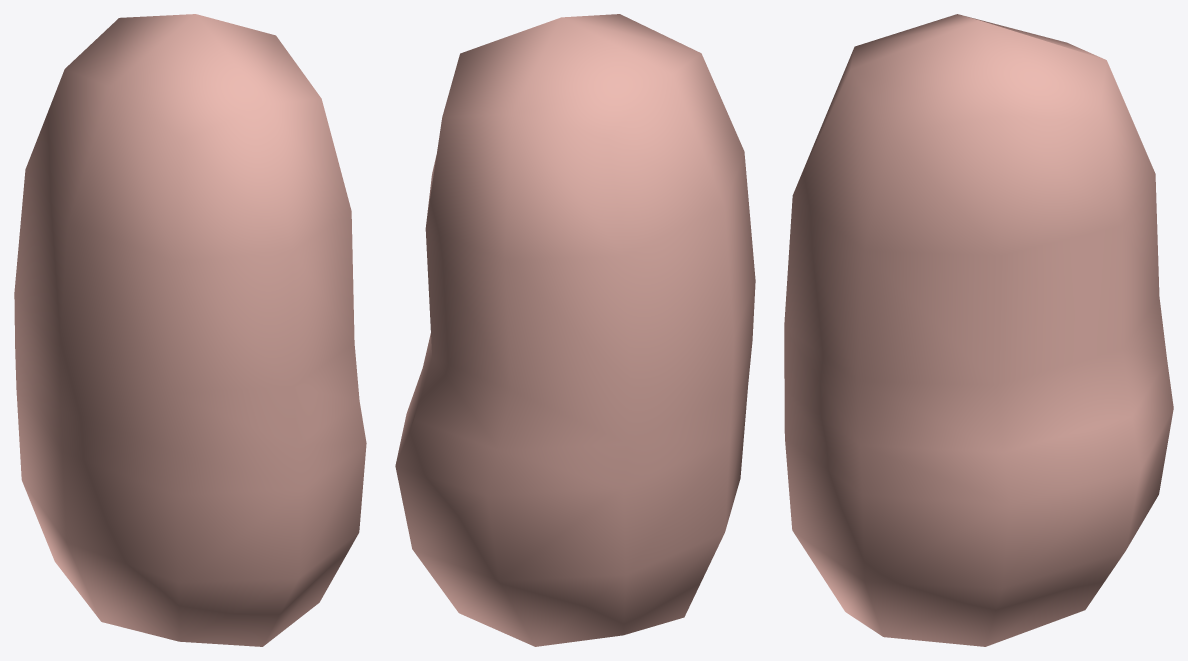
Rendered from Bean.fbx.
The picture shows the model from 3 angles, left to right: view 1: azimuth 30°, elevation 25°; view 2: azimuth 150°, elevation 25°; view 3: azimuth 270°, elevation 25°; orthographic projection.
Visible parts, largest first — view 1: Cube; view 2: Cube; view 3: Cube.
Part boxes in pixels (x1,y1,x2,y2): Cube: (14,14,366,646); Cube: (395,14,755,646); Cube: (784,14,1173,646).
Bounding box in the file's own units: 155 × 311 × 178.
